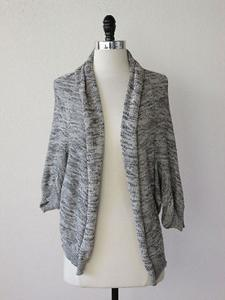C_cardigan sweater: (42, 53, 187, 283)
